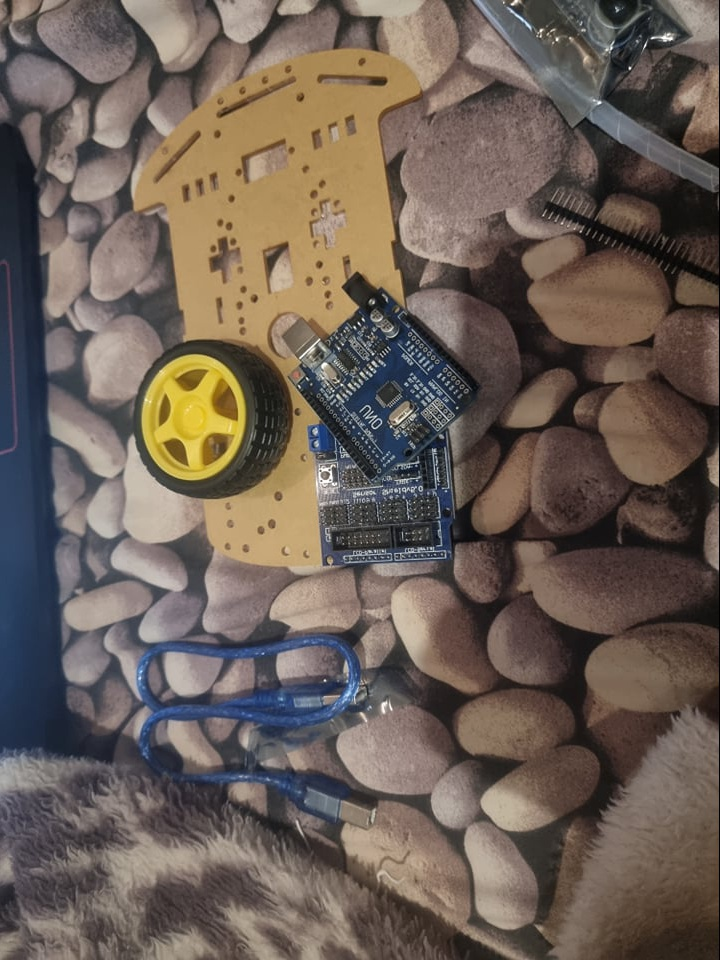5V EXPANSION: (307, 422, 454, 566)
UNO R3: (285, 272, 480, 482)
